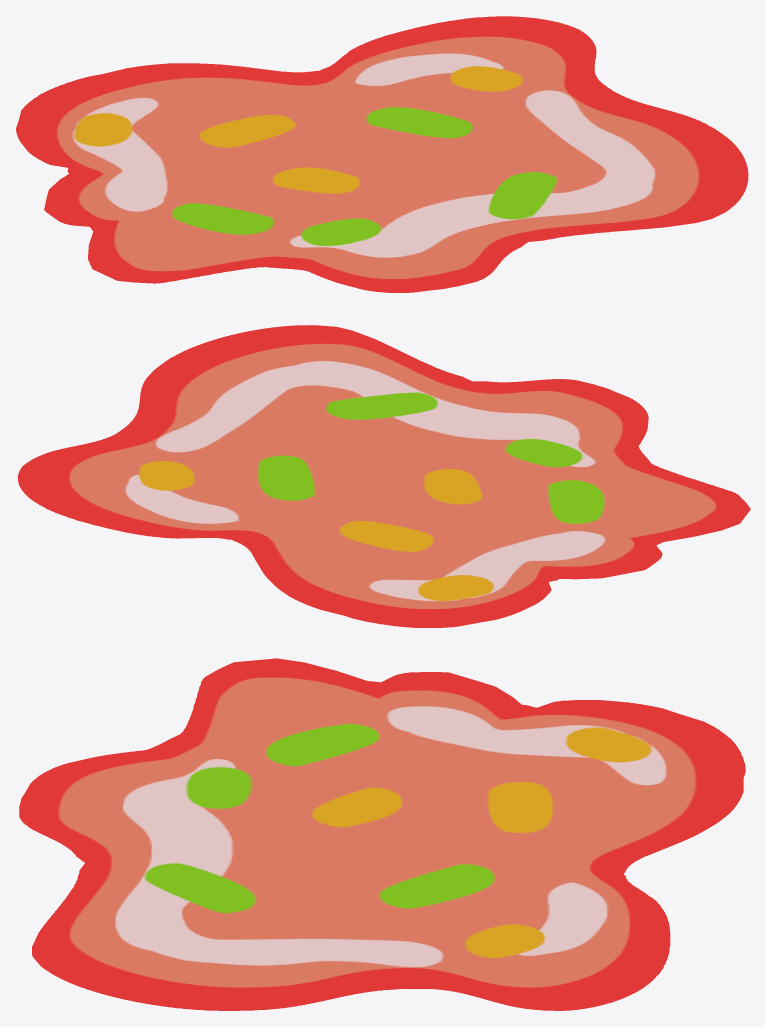
Rendered from _poil.FBX.
The picture shows the model from 3 angles, top to bottom: view 1: azimuth 30°, elevation 25°; view 2: azimuth 150°, elevation 25°; view 3: azimuth 270°, elevation 25°; orthographic projection. The views are drawn at different scales.
Visible parts, largest first — view 1: Plane001; view 2: Plane001; view 3: Plane001.
Boxes of the visible parts, <box> form: Plane001: <box>16,16,748,292</box>; Plane001: <box>17,325,750,627</box>; Plane001: <box>19,658,745,1010</box>.
Bounding box in the file's own units: 32.18 × 1.78e-15 × 28.3.
1 material, 1 textured.
